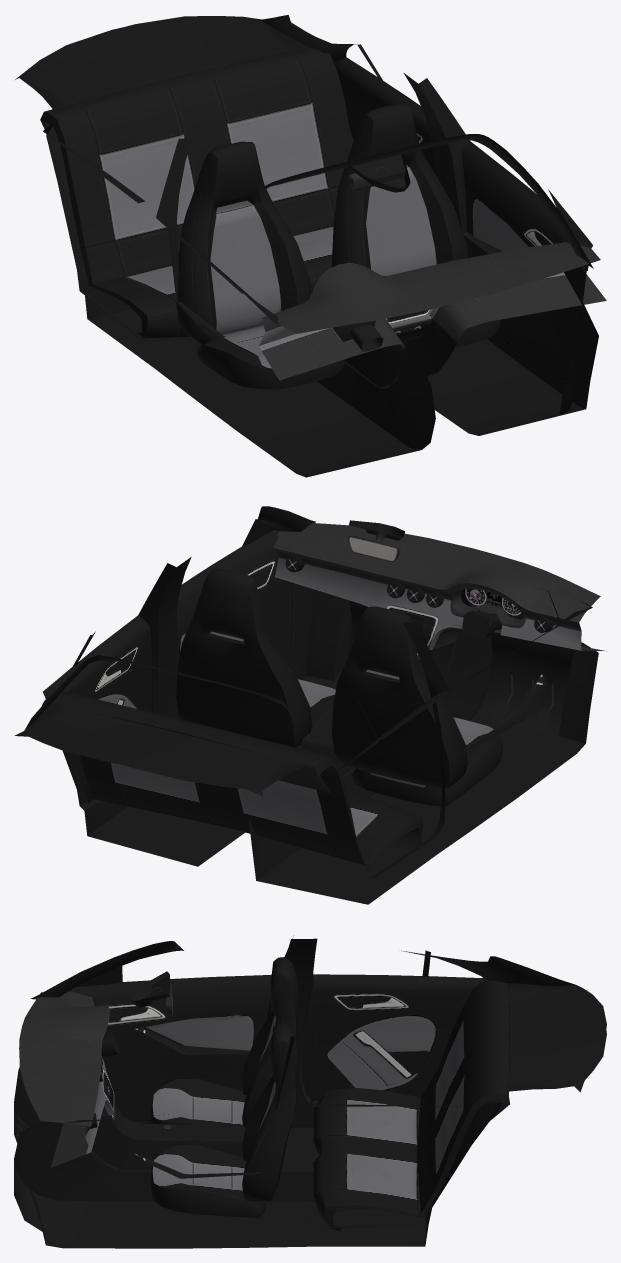
File: Interior_LOD0.obj
3 views of the same model, one above another, from view 1: azimuth 30°, elevation 25°; view 2: azimuth 150°, elevation 25°; view 3: azimuth 270°, elevation 25° (orthographic). The views are drawn at different scales.
Visible parts, largest first — view 1: Interior_LOD0_0; view 2: Interior_LOD0_0; view 3: Interior_LOD0_0.
Boxes of the visible parts, bbox=[...] form: Interior_LOD0_0: bbox=[15, 15, 606, 477]; Interior_LOD0_0: bbox=[14, 506, 606, 904]; Interior_LOD0_0: bbox=[14, 938, 606, 1248].
Size of the model in its own units: 1.6 by 1.15 by 2.88.
Materials: 1 (1 with a texture image).
